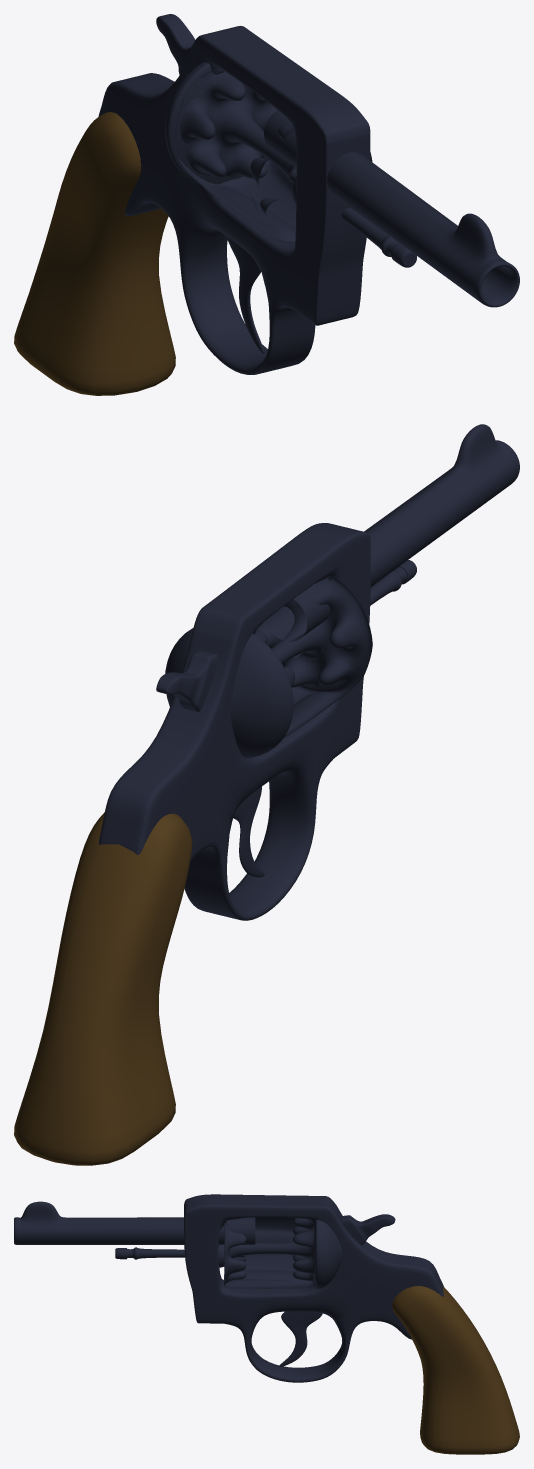
File: gun_3.fbx
3 views of the same model, one above another, from view 1: azimuth 30°, elevation 25°; view 2: azimuth 150°, elevation 25°; view 3: azimuth 270°, elevation 25° (orthographic). The views are drawn at different scales.
Parts seen in each view (by area): view 1: gun; view 2: gun; view 3: gun.
Boxes of the visible parts, x1,y1,x2,y2 form: gun: (14,14,519,395); gun: (14,424,519,1165); gun: (14,1194,519,1454).
Size of the model in its own units: 152 by 500 by 939.
